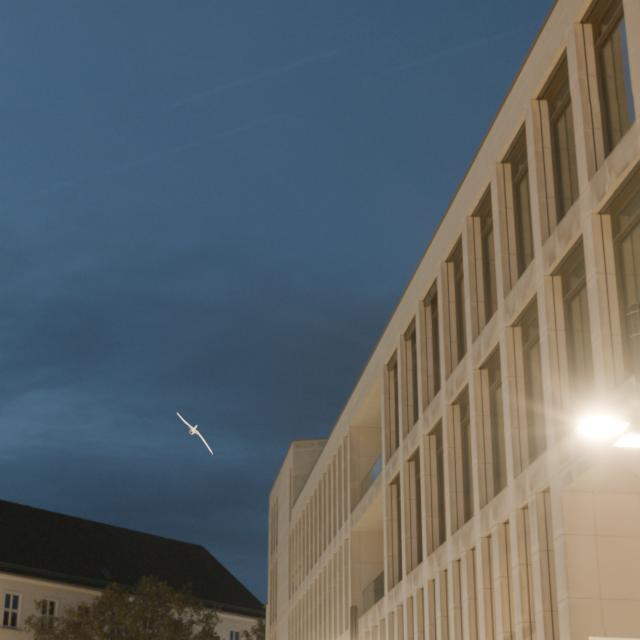Airaplan: (177, 413, 213, 455)
